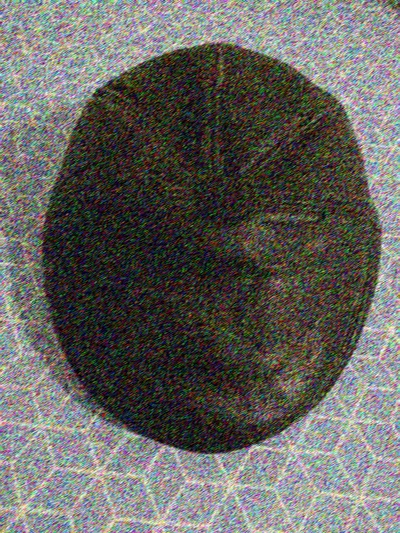Hat: (10, 25, 378, 463)
